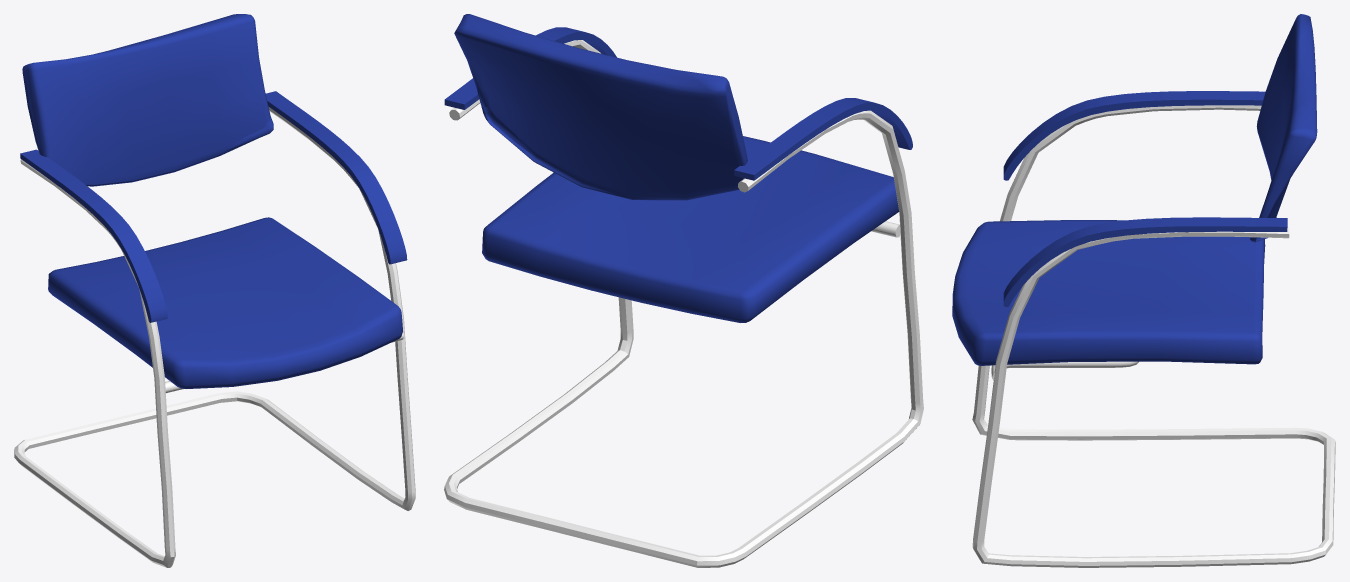
The model's file is Chair4.FBX.
The picture shows the model from 3 angles, left to right: view 1: azimuth 30°, elevation 25°; view 2: azimuth 150°, elevation 25°; view 3: azimuth 270°, elevation 25°; orthographic projection. The views are drawn at different scales.
Parts seen in each view (by area): view 1: ChamferBox02, ChamferBox01, Loft01, Rectangle02, Rectangle01; view 2: ChamferBox02, ChamferBox01, Loft01, Rectangle02, Rectangle01; view 3: ChamferBox02, Loft01, ChamferBox01, Rectangle01, Rectangle02, Loft02.
Boxes of the visible parts, x1=… form: ChamferBox02: x1=48, y1=217, x2=402, y2=388; ChamferBox01: x1=22, y1=14, x2=273, y2=186; Loft01: x1=14, y1=107, x2=415, y2=567; Rectangle02: x1=20, y1=149, x2=167, y2=322; Rectangle01: x1=265, y1=91, x2=407, y2=264; ChamferBox02: x1=482, y1=136, x2=899, y2=322; ChamferBox01: x1=454, y1=14, x2=747, y2=200; Loft01: x1=444, y1=40, x2=923, y2=567; Rectangle02: x1=734, y1=98, x2=912, y2=180; Rectangle01: x1=444, y1=27, x2=616, y2=109; ChamferBox02: x1=952, y1=220, x2=1265, y2=365; Loft01: x1=972, y1=105, x2=1335, y2=567; ChamferBox01: x1=1249, y1=14, x2=1317, y2=242; Rectangle01: x1=1003, y1=217, x2=1287, y2=306; Rectangle02: x1=1003, y1=91, x2=1265, y2=180; Loft02: x1=991, y1=361, x2=1138, y2=381.
Bounding box in the file's own units: 565 × 843 × 677.
